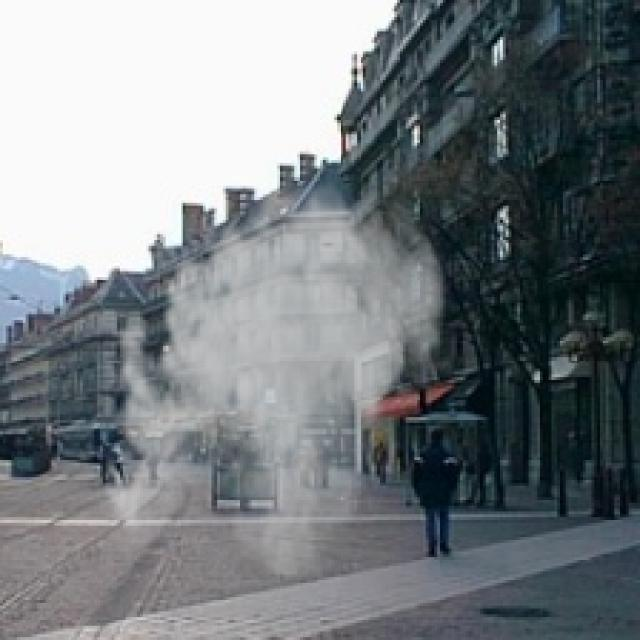smoke: (92, 169, 454, 580)
